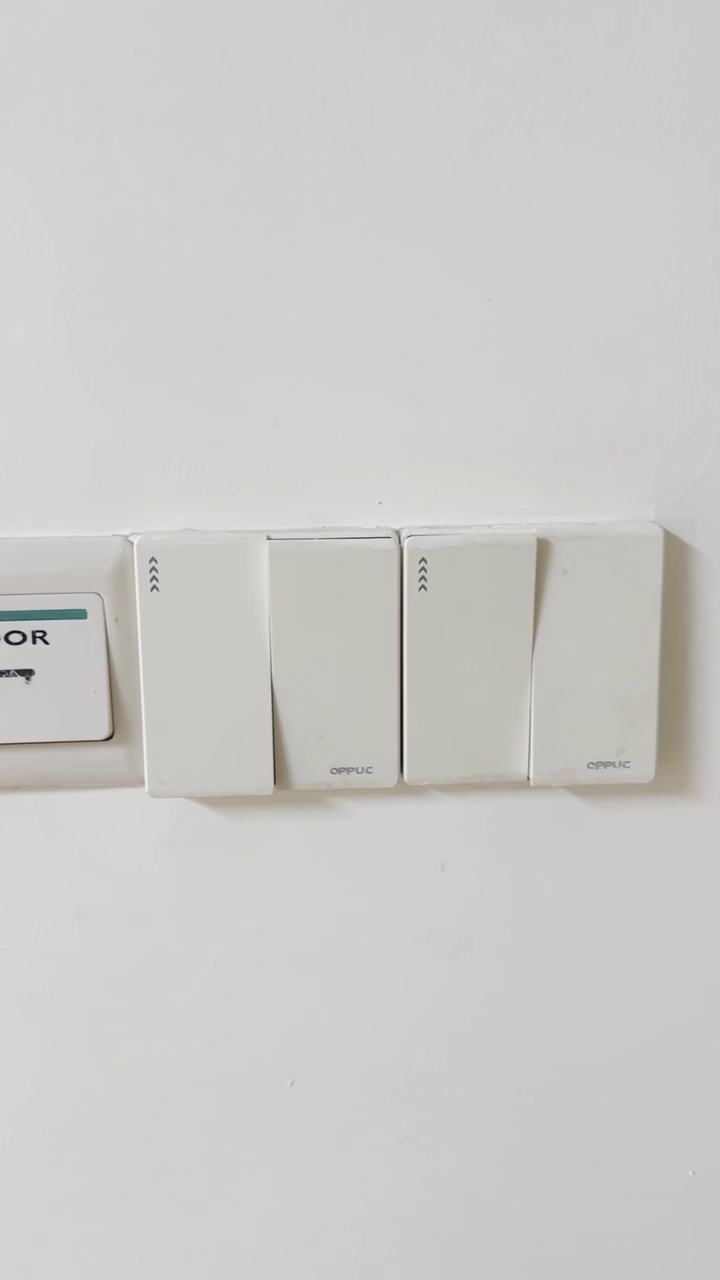button1: (135, 534, 274, 793), (271, 541, 403, 788), (536, 537, 655, 781), (409, 546, 529, 784)
